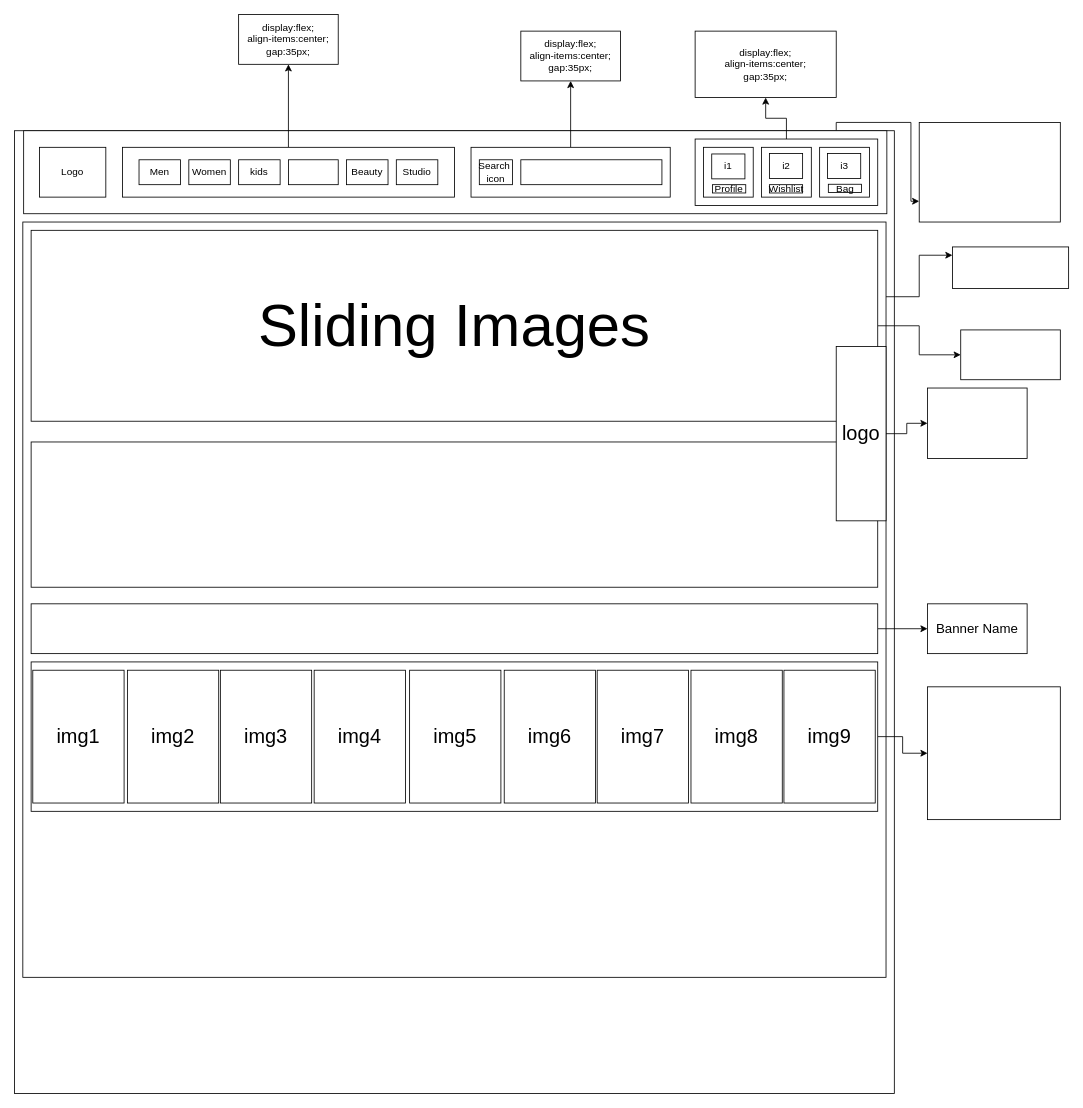
Image size: 1083x1108. Some labels were removed from this diagram. The shapes that lost their labels are listed below. From the top down, each one's centre as x and y in pixels, then its label:
(313,172): Home & living
(591,172): Search
(989,172): header display:flex; justify contant:space around, Position:Fixed z index 2
(1010,267): section
(1010,354): Slider
(977,423): logo position: Fixed z-index:1
(454,514): Image
(454,628): DEAL OF THE DAY
(993,753): banner display:flex; justify-contant:space between
